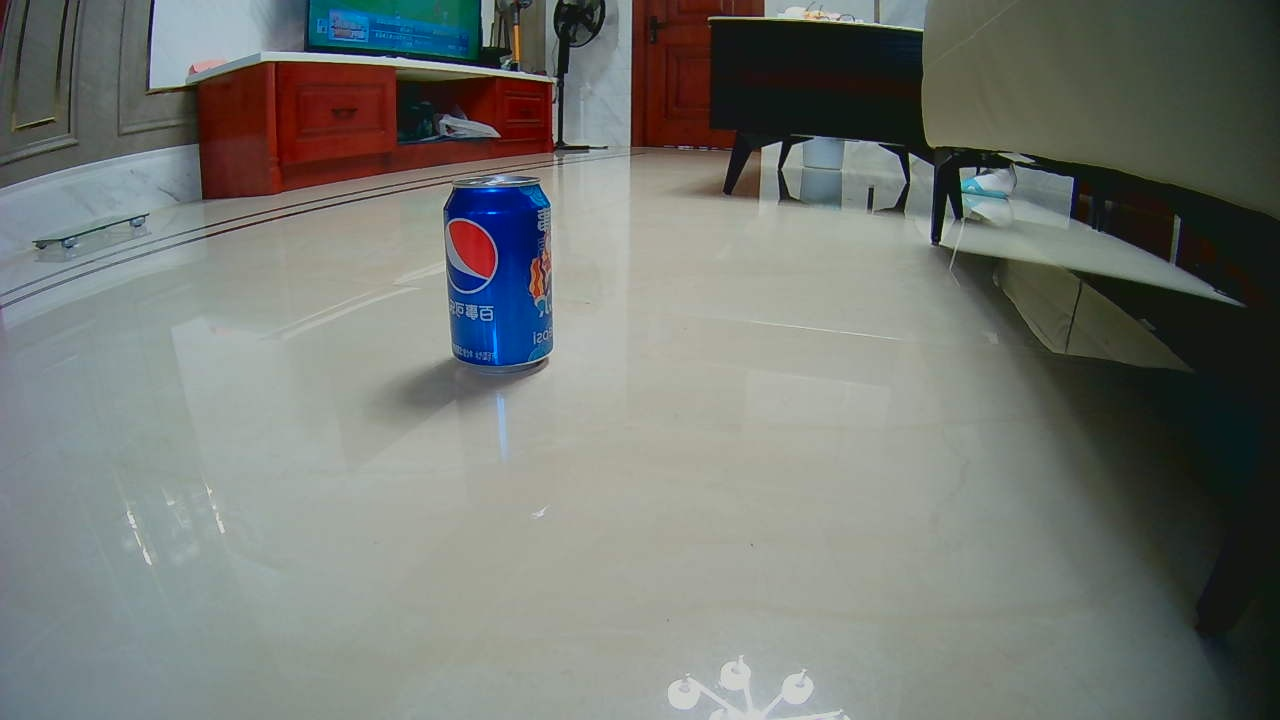pessi: (440, 181, 553, 374)
